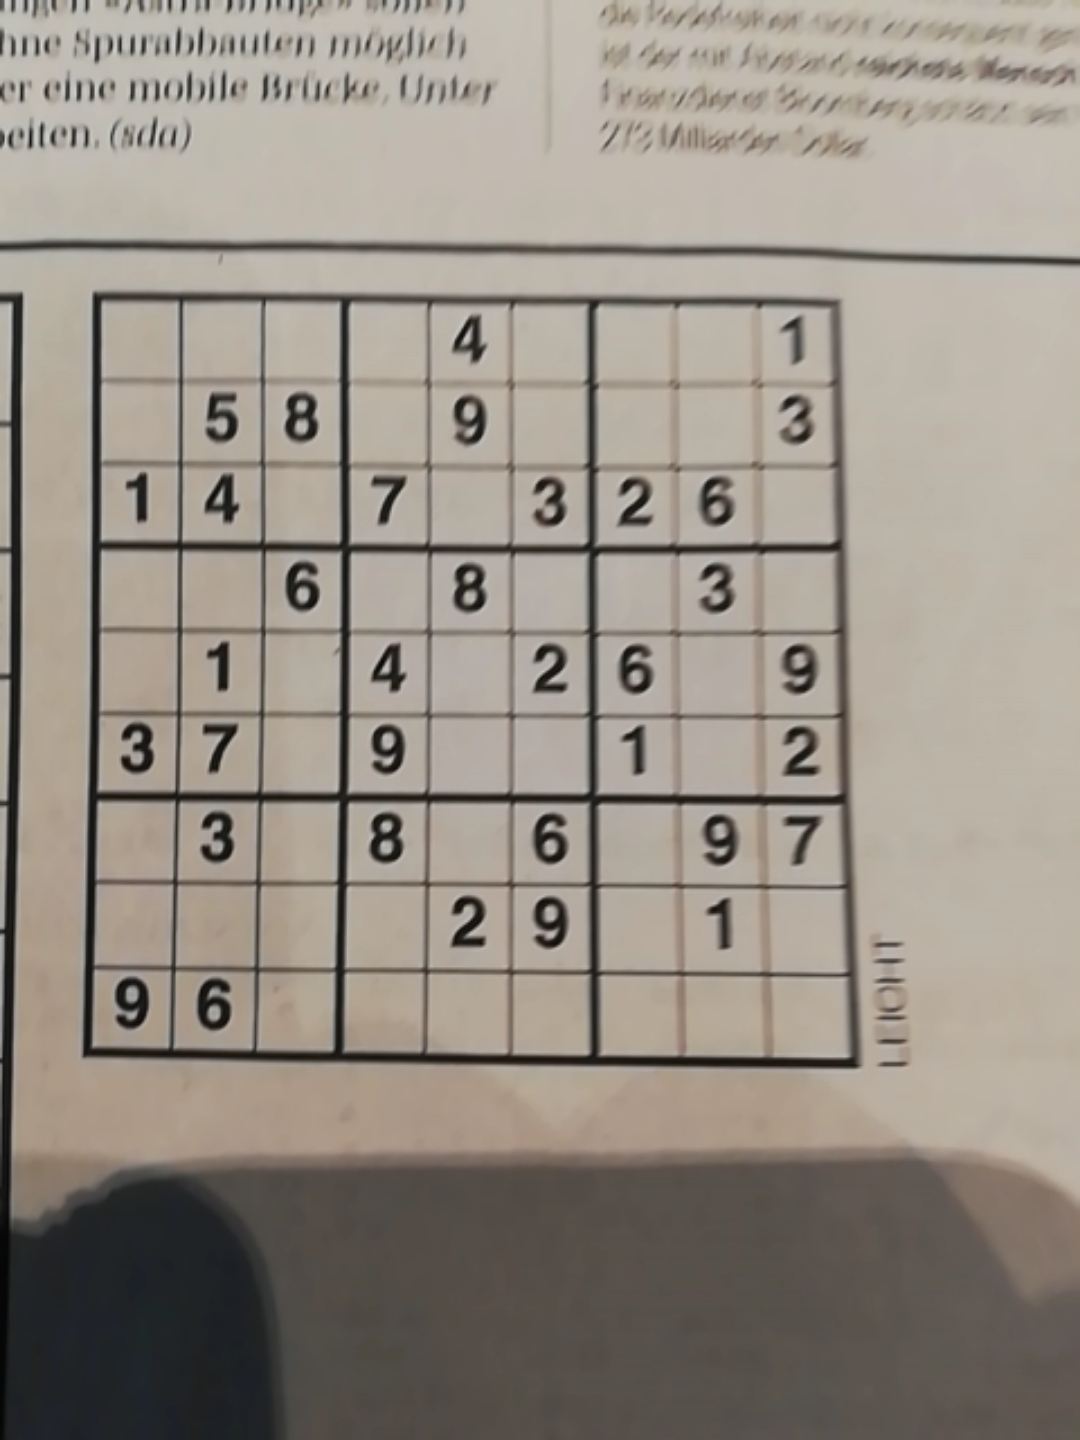sudoku: (84, 285, 858, 1072)
